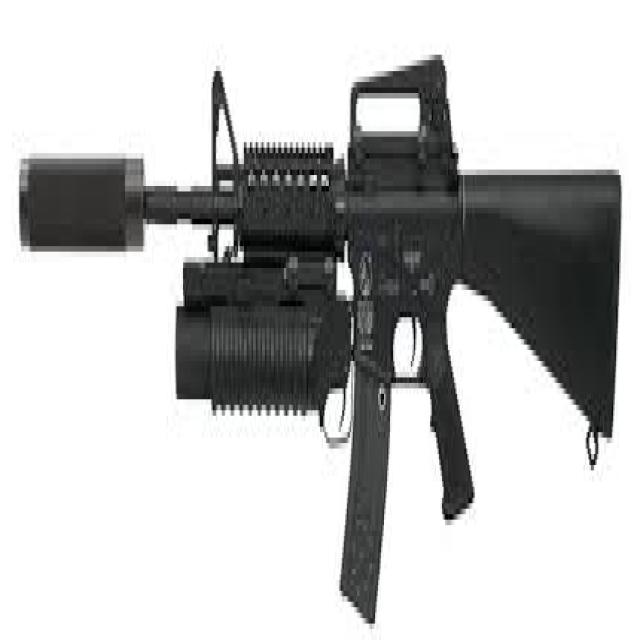rifle: (9, 5, 635, 636)
